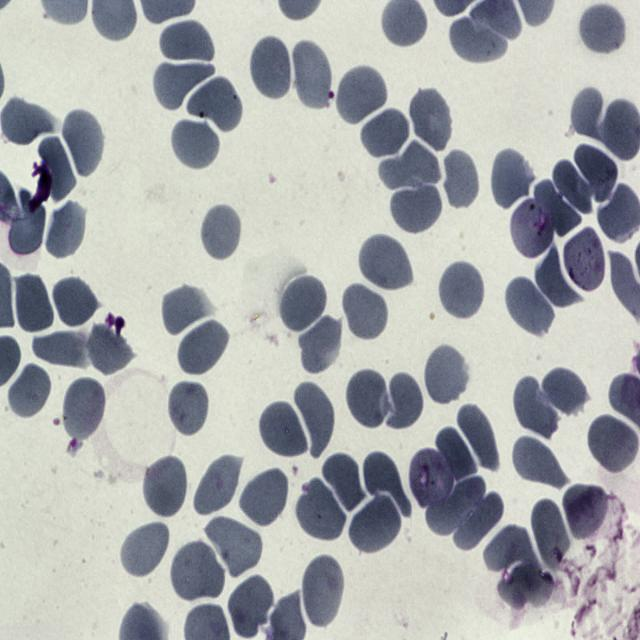red blood cell: (424, 475, 488, 537), (362, 449, 412, 522), (207, 514, 263, 579), (292, 379, 338, 456), (348, 491, 402, 556), (296, 477, 348, 544), (170, 538, 224, 602), (335, 63, 389, 126), (504, 273, 556, 338), (358, 232, 414, 292), (534, 242, 584, 309), (238, 465, 291, 528), (61, 105, 106, 179), (141, 452, 189, 521), (290, 36, 334, 111), (510, 435, 570, 490), (259, 397, 310, 461), (302, 555, 345, 630), (248, 34, 294, 104), (278, 272, 329, 335), (379, 140, 443, 190), (192, 452, 241, 517), (452, 491, 505, 551), (408, 85, 454, 154), (189, 73, 242, 132), (512, 374, 560, 439), (344, 366, 391, 432), (423, 342, 470, 408), (438, 259, 487, 322), (389, 178, 443, 235), (176, 318, 229, 376), (169, 114, 222, 172), (227, 572, 275, 636), (119, 519, 171, 578), (530, 498, 572, 571), (32, 137, 75, 208), (562, 483, 612, 544), (457, 402, 500, 472), (342, 280, 389, 344), (153, 62, 215, 110), (490, 145, 535, 211), (5, 189, 48, 258), (378, 373, 428, 432), (62, 377, 106, 444), (320, 450, 364, 517), (6, 361, 54, 422), (358, 106, 411, 161), (572, 142, 618, 205), (449, 15, 508, 64), (298, 312, 342, 377), (533, 178, 582, 236), (482, 525, 540, 574), (0, 97, 58, 146), (160, 283, 211, 338), (578, 3, 629, 58), (496, 562, 554, 610), (539, 363, 589, 418), (166, 377, 211, 438), (199, 202, 243, 264), (13, 272, 54, 336), (47, 201, 88, 265), (158, 18, 216, 63), (50, 276, 100, 328), (442, 146, 481, 211), (88, 324, 134, 377), (434, 426, 478, 481), (552, 158, 595, 214), (31, 330, 88, 369), (570, 83, 608, 140)
ring: (408, 447, 457, 512), (562, 226, 607, 296), (509, 195, 556, 261)
